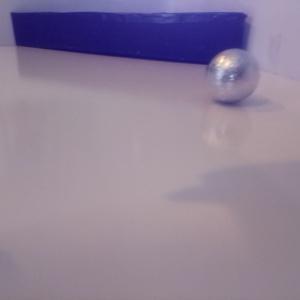zone: (9, 10, 248, 68)
